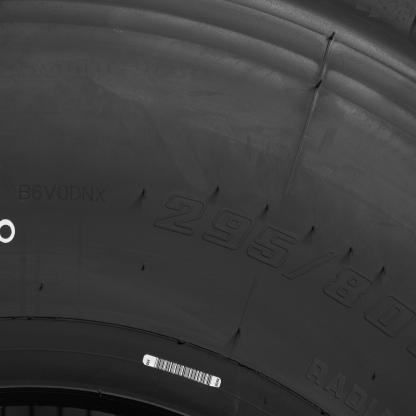ocr: (17, 182, 107, 206)
